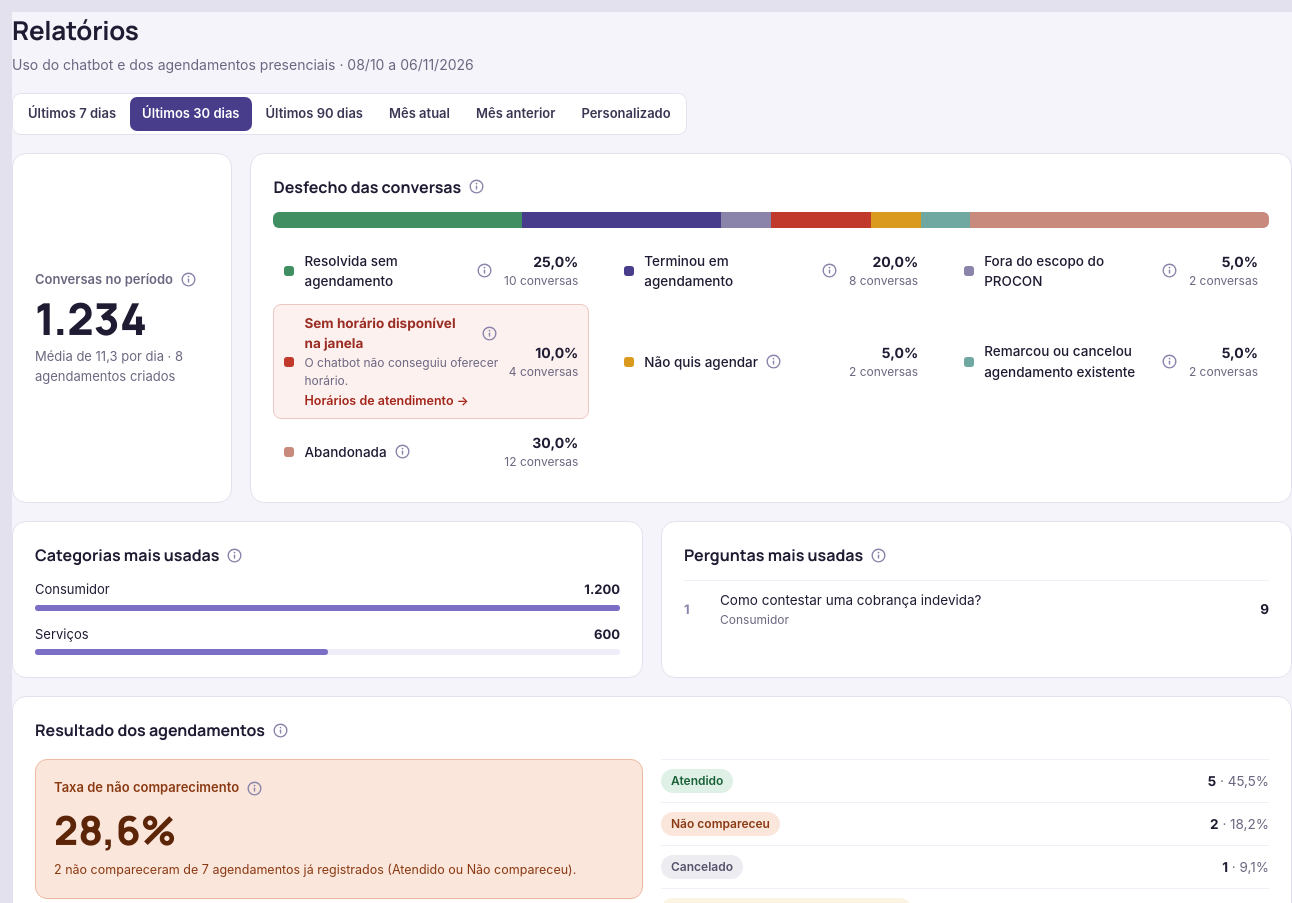
Test: Reports: Perguntas mais usadas › explica a contagem com a regra de conversas distintas
Expected: the heading "Desfecho das conversas" is shown, [274, 176, 486, 198]
Click the button named "Definição das perguntas mais usadas".
click(879, 555)  # box [869, 548, 888, 563]
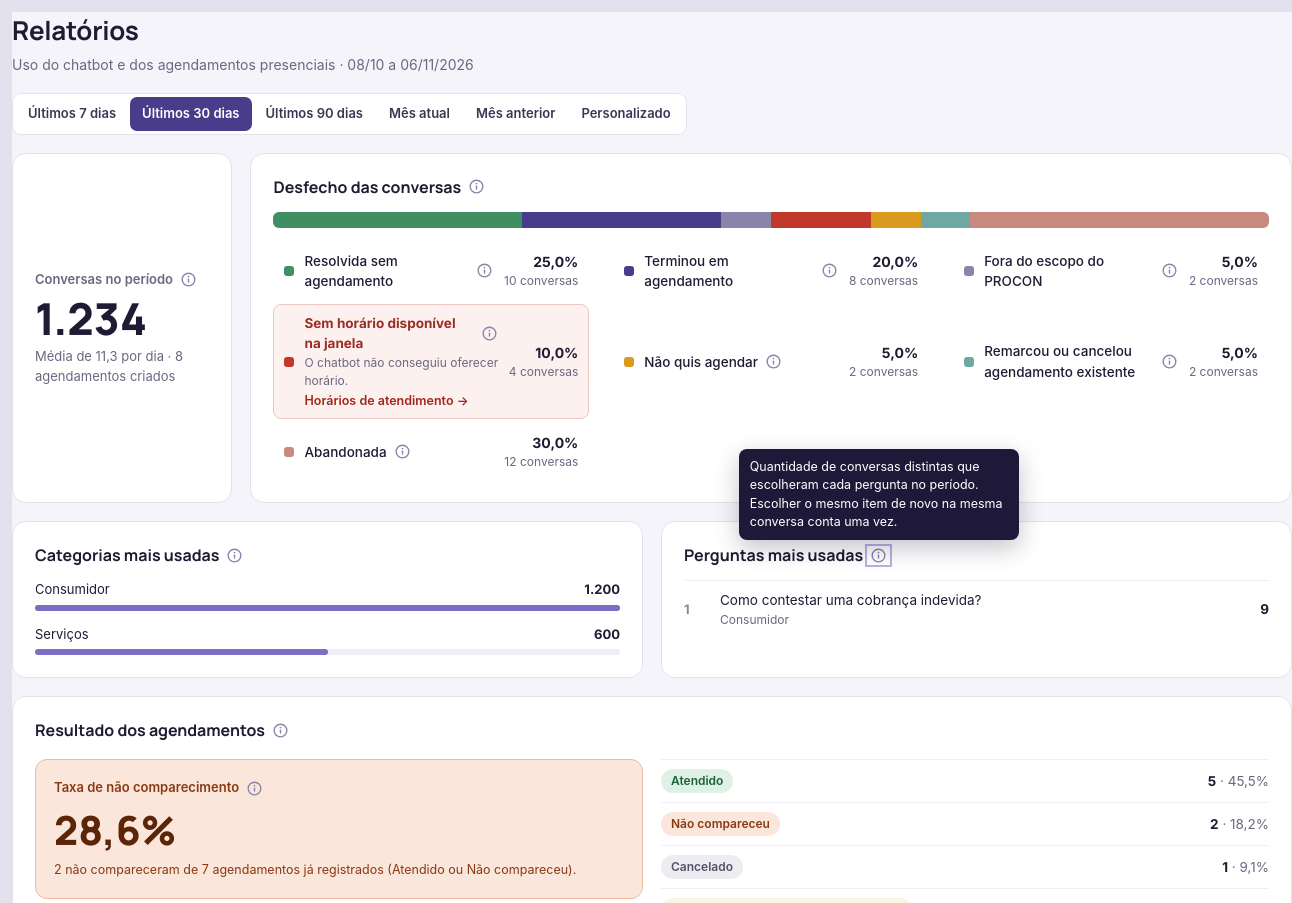
Now the tooltip shows "Quantidade de conversas distintas que escolheram cada pergunta no período. Escolher o mesmo item de novo na mesma conversa conta uma vez.", box [750, 459, 1003, 529]
